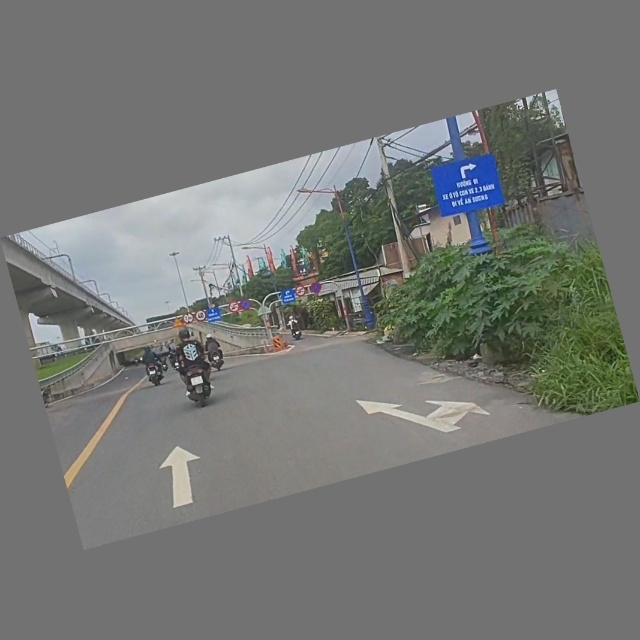P.107: (227, 301, 241, 315), (294, 285, 308, 299)
P.117*: (181, 312, 195, 326)
P.127*40: (194, 310, 208, 324)
P.130: (239, 298, 254, 313), (309, 281, 324, 295)
